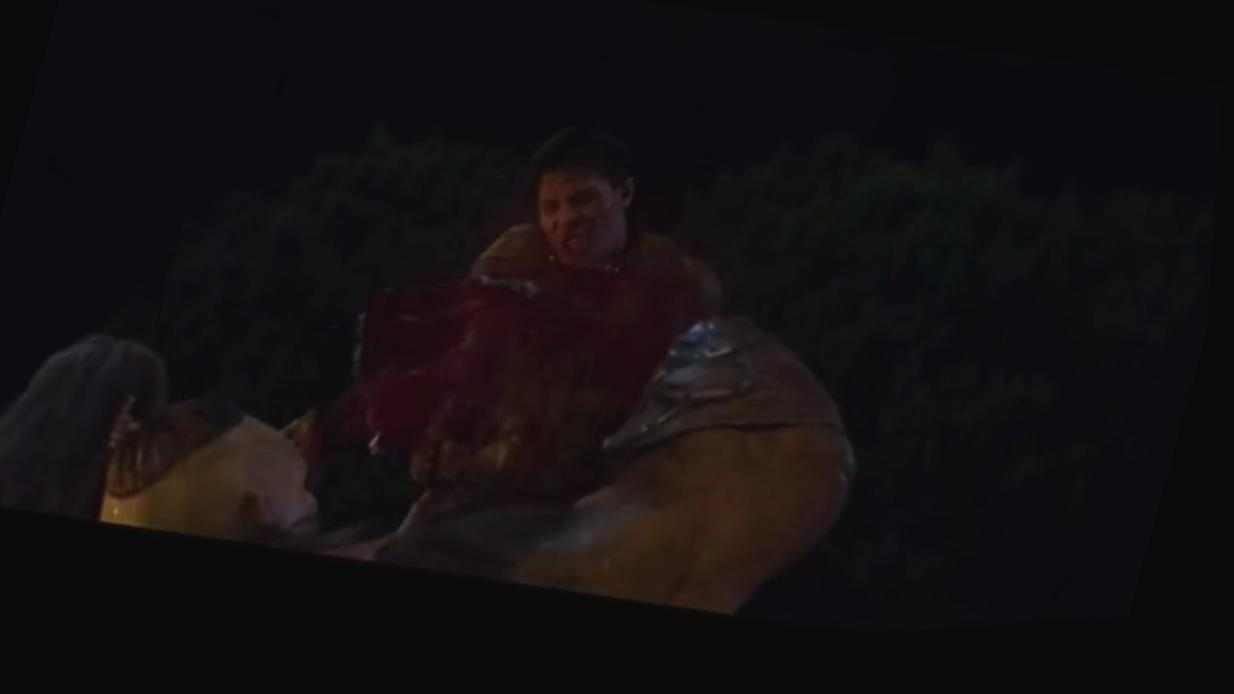Fire: (313, 236, 679, 536)
